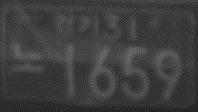1: (55, 43, 85, 98), (123, 12, 142, 42)
3: (101, 13, 121, 42)
5: (121, 44, 150, 101)
6: (88, 43, 118, 100)
9: (154, 47, 182, 101)
경기_O: (53, 13, 100, 37)
노: (9, 40, 45, 76)
